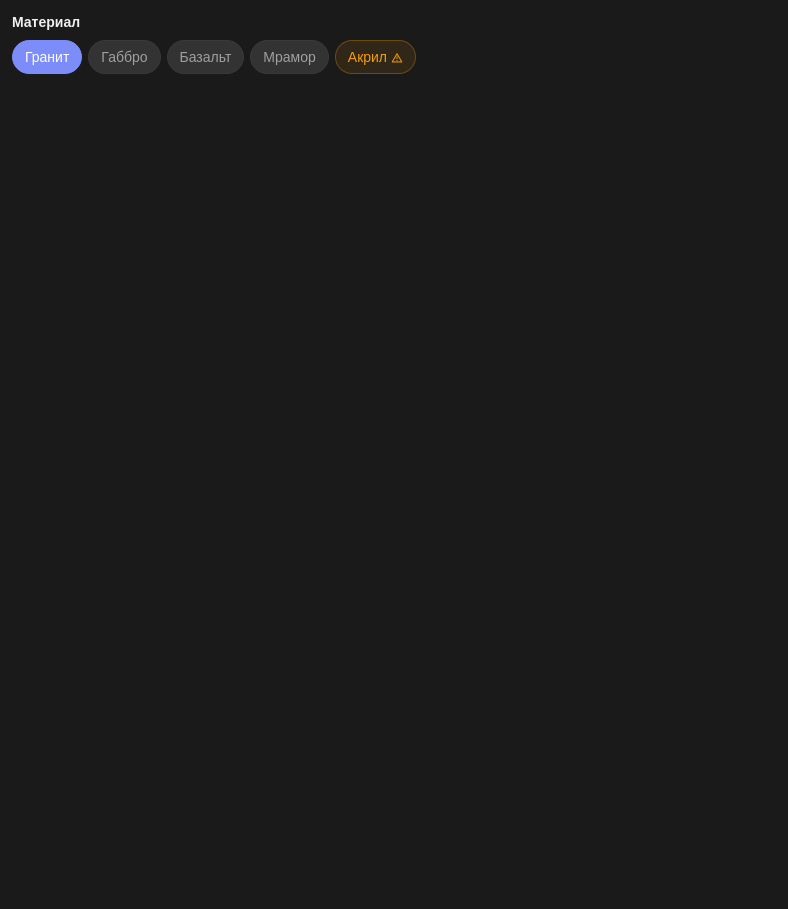
Scenario: MaterialSelector › handles unsuccessful material selection with validationWarnings
What coordinates should you click on to do the following:
click the button "Мрамор"
I would click on:
 (290, 57)
Its box is [250,40,329,74].
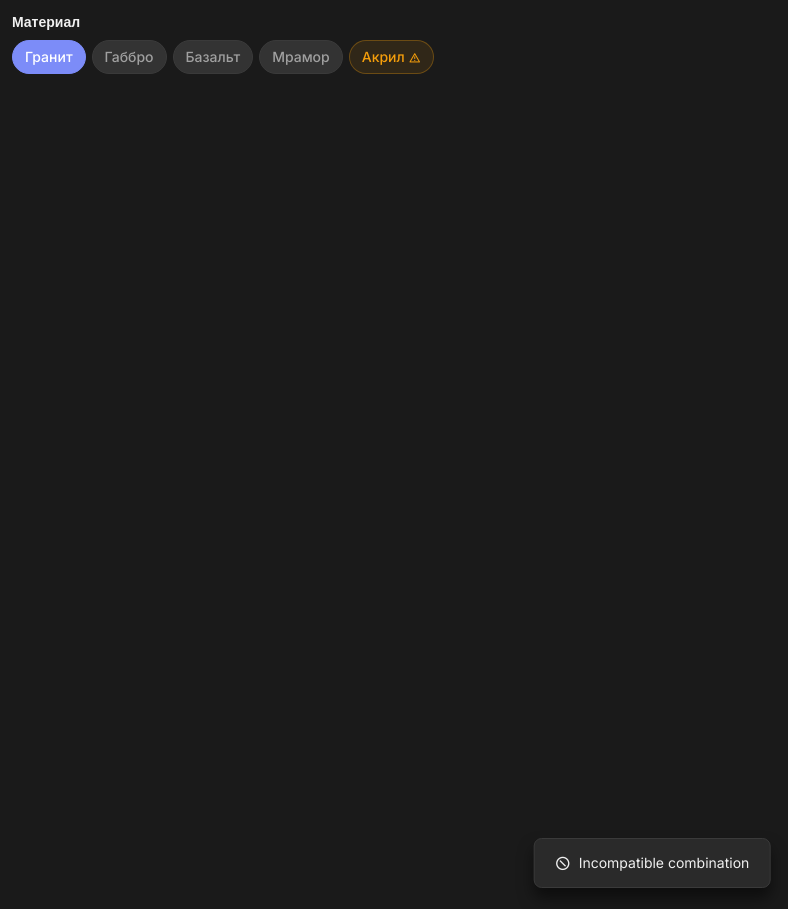
Now the text "Incompatible combination" is shown, box [579,853,749,873]
